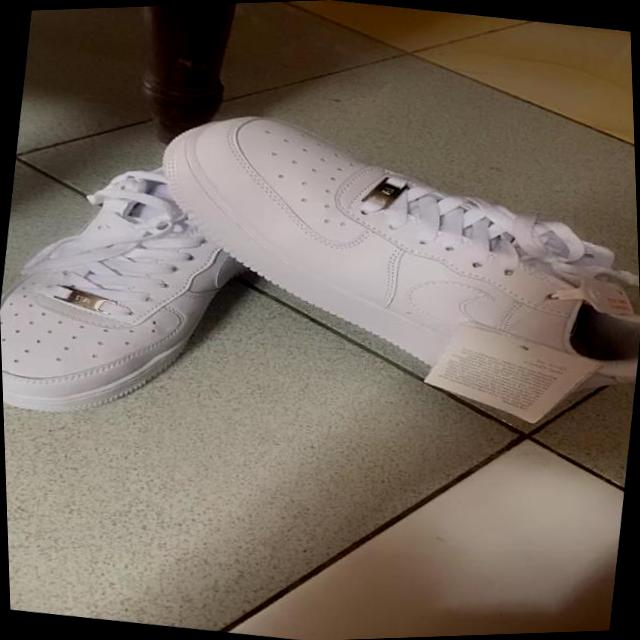nike_fake_airforce: (124, 88, 640, 463), (0, 146, 310, 446)
